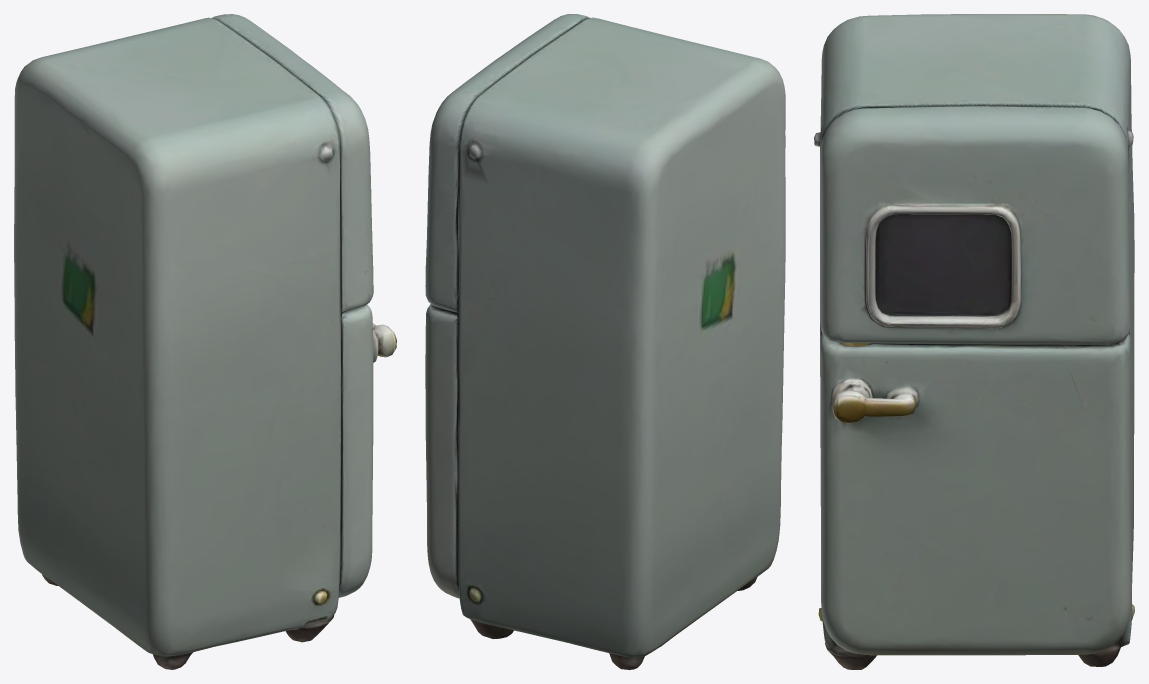
The model's file is planner.glb.
The picture shows the model from 3 angles, left to right: view 1: azimuth 30°, elevation 25°; view 2: azimuth 150°, elevation 25°; view 3: azimuth 270°, elevation 25°; orthographic projection. The views are drawn at different scales.
Parts seen in each view (by area): view 1: tripo_node_29626fc8-4bc4-4c29-9d0e-23d43ba83c22; view 2: tripo_node_29626fc8-4bc4-4c29-9d0e-23d43ba83c22; view 3: tripo_node_29626fc8-4bc4-4c29-9d0e-23d43ba83c22.
Part boxes in pixels (<box>): tripo_node_29626fc8-4bc4-4c29-9d0e-23d43ba83c22: <box>14,14,396,669</box>; tripo_node_29626fc8-4bc4-4c29-9d0e-23d43ba83c22: <box>425,14,785,669</box>; tripo_node_29626fc8-4bc4-4c29-9d0e-23d43ba83c22: <box>814,14,1134,669</box>.
Bounding box in the file's own units: 0.4962 × 0.9999 × 0.5067.
Materials: 1 (1 with a texture image).
